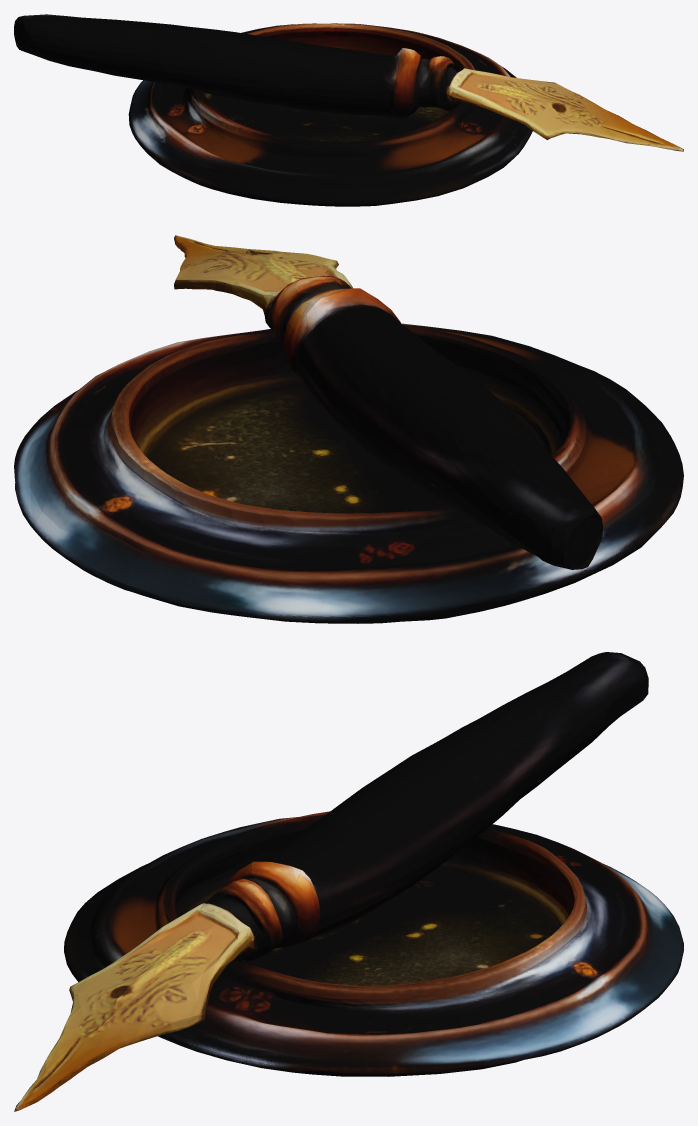
Rendered from natural-ink-dip-pen-vintage.jpeg.glb.
3 views of the same model, one above another, from view 1: azimuth 30°, elevation 25°; view 2: azimuth 150°, elevation 25°; view 3: azimuth 270°, elevation 25° (orthographic). The views are drawn at different scales.
Visible parts, largest first — view 1: world; view 2: world; view 3: world.
Boxes of the visible parts, left/top/right/bottom form: world: left=14, top=14, right=683, bottom=206; world: left=14, top=235, right=683, bottom=623; world: left=14, top=652, right=683, bottom=1111.
Bounding box in the file's own units: 1 × 0.2051 × 0.8661.
Materials: 1 (1 with a texture image).
